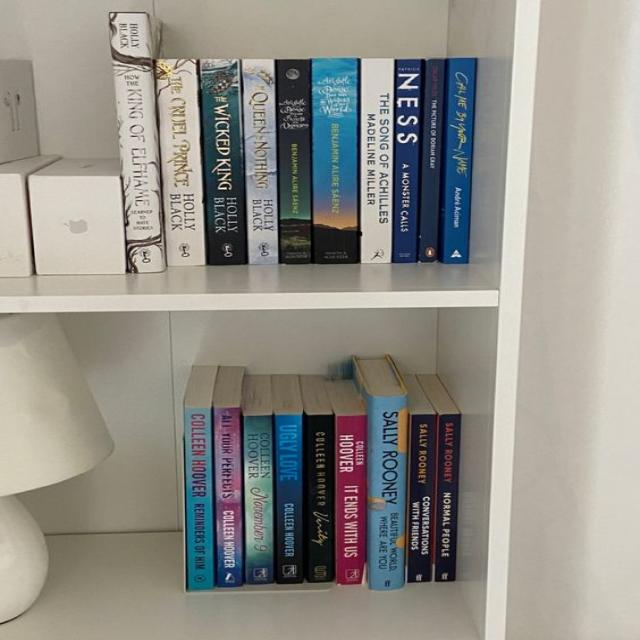book: (110, 13, 165, 273), (153, 59, 206, 266), (199, 58, 246, 265), (314, 59, 359, 264), (241, 59, 279, 264), (370, 393, 408, 591), (276, 60, 311, 265), (443, 58, 477, 263), (360, 59, 391, 263), (394, 59, 422, 262), (418, 59, 445, 261), (184, 408, 213, 591), (214, 406, 243, 588), (244, 415, 274, 584), (337, 415, 367, 584), (408, 413, 438, 582), (275, 414, 303, 583), (434, 414, 461, 582), (308, 415, 332, 583)
